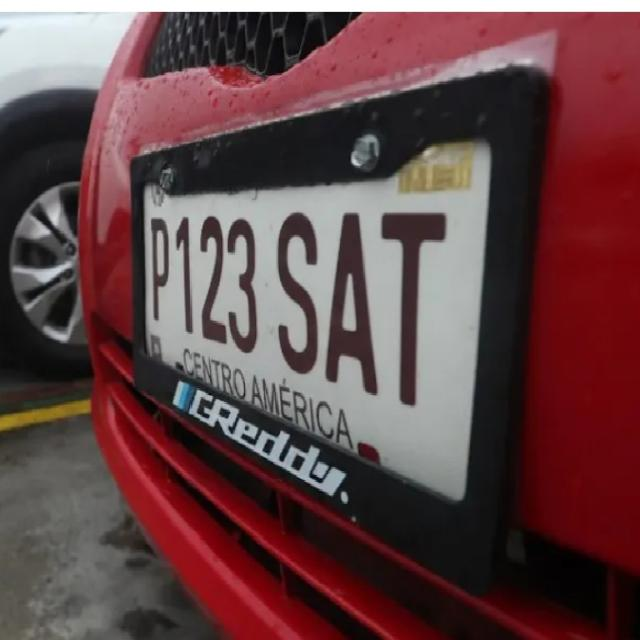Placas: (129, 79, 533, 600)
